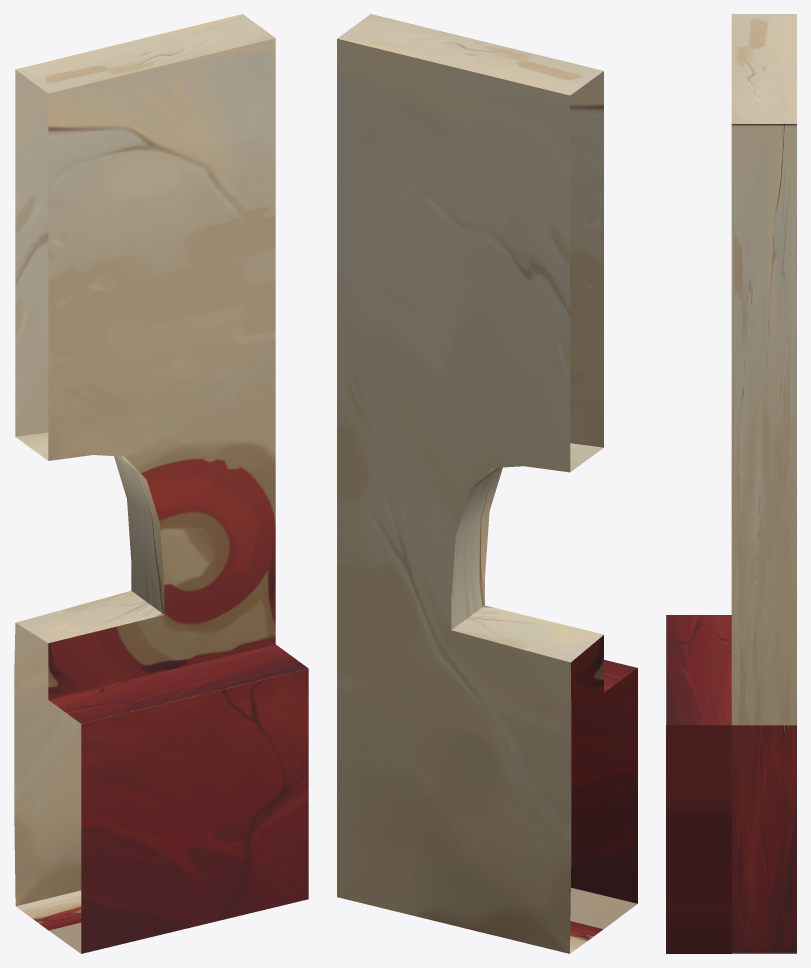
The model's file is Modulaire_FenetrePetite.fbx.
The picture shows the model from 3 angles, left to right: view 1: azimuth 30°, elevation 25°; view 2: azimuth 150°, elevation 25°; view 3: azimuth 270°, elevation 25°; orthographic projection. The views are drawn at different scales.
Visible parts, largest first — view 1: Box008; view 2: Box008; view 3: Box008.
Boxes of the visible parts, left/top/right/bottom form: Box008: left=14, top=14, right=308, bottom=953; Box008: left=337, top=14, right=637, bottom=953; Box008: left=666, top=14, right=796, bottom=953.
Bounding box in the file's own units: 0.5 × 1.75 × 0.25.
